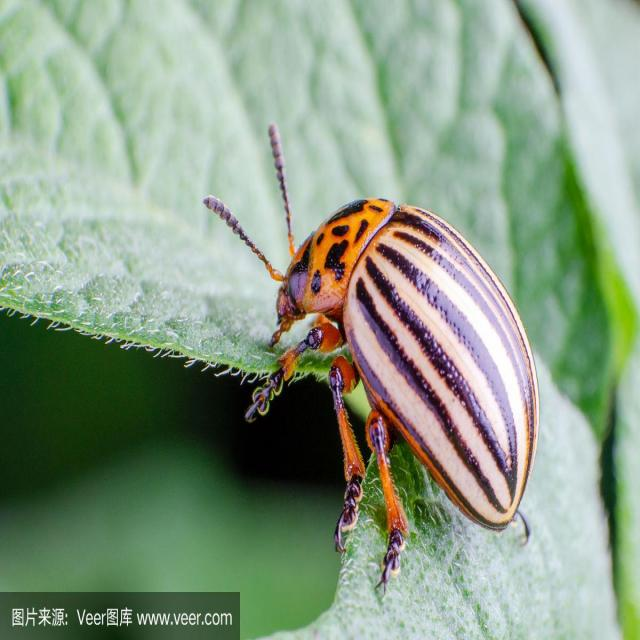ShuCaiHuaBanChong-Grown-: (252, 178, 562, 568)
